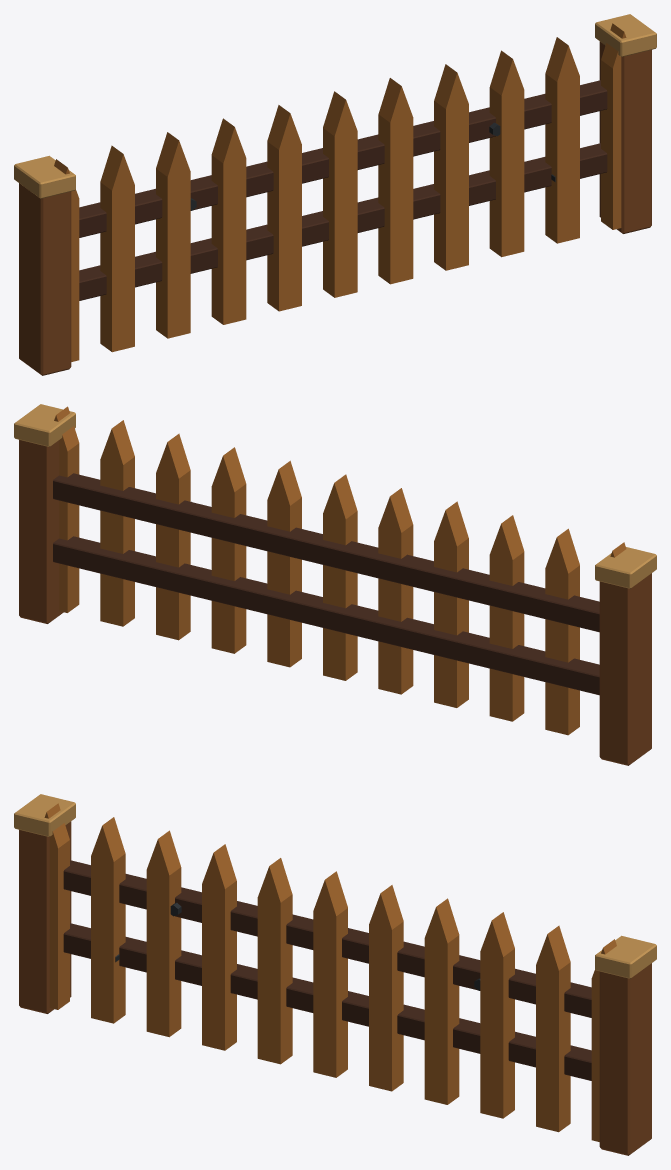
The picture shows the model from 3 angles, top to bottom: view 1: azimuth 30°, elevation 25°; view 2: azimuth 150°, elevation 25°; view 3: azimuth 330°, elevation 25°; orthographic projection.
Visible parts, largest first — view 1: WK_TownHardscape_TH02_LOD0; view 2: WK_TownHardscape_TH02_LOD0; view 3: WK_TownHardscape_TH02_LOD0.
Boxes of the visible parts, <box> form: WK_TownHardscape_TH02_LOD0: <box>14,14,656,375</box>; WK_TownHardscape_TH02_LOD0: <box>14,404,656,765</box>; WK_TownHardscape_TH02_LOD0: <box>14,794,656,1155</box>.
Size of the model in its own units: 4 by 1.25 by 0.3.
